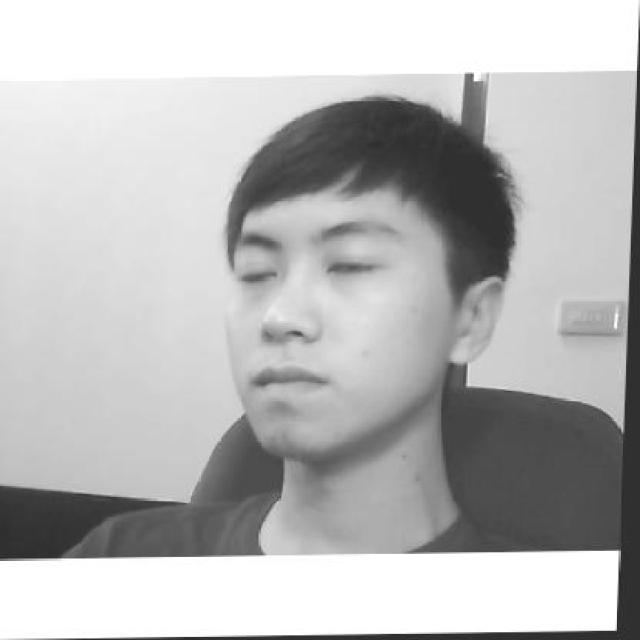inattentif: (222, 99, 516, 458)
